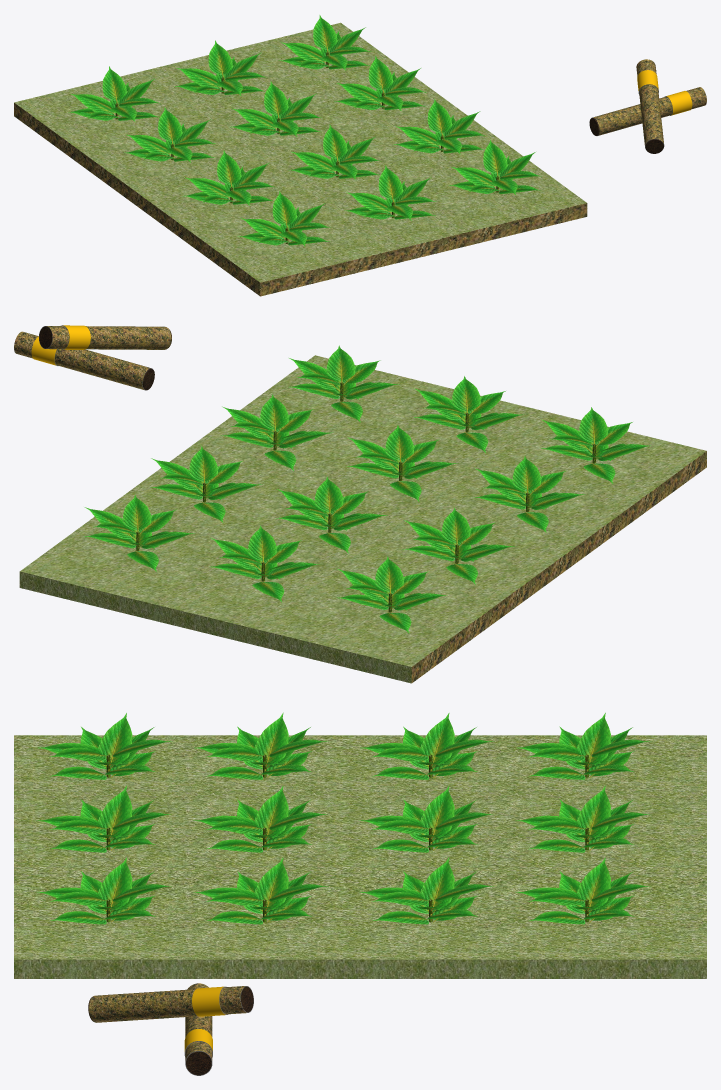
Rendered from tobacco.gltf.
3 views of the same model, one above another, from view 1: azimuth 30°, elevation 25°; view 2: azimuth 150°, elevation 25°; view 3: azimuth 270°, elevation 25° (orthographic). The views are drawn at different scales.
Parts seen in each view (by area): view 1: root, Component#3 (×12), object 134, object 135; view 2: root, Component#3 (×12), object 135, object 134; view 3: root, Component#3 (×12), object 135, object 134.
Part boxes in pixels (bbox=[...]): root: bbox=[14, 22, 587, 296]; Component#3 (×12): bbox=[102, 15, 507, 227]; object 134: bbox=[589, 87, 706, 135]; object 135: bbox=[636, 59, 664, 153]; root: bbox=[19, 355, 706, 683]; Component#3 (×12): bbox=[122, 345, 607, 593]; object 135: bbox=[39, 325, 171, 349]; object 134: bbox=[14, 331, 154, 390]; root: bbox=[14, 735, 706, 978]; Component#3 (×12): bbox=[98, 712, 610, 915]; object 135: bbox=[88, 986, 253, 1022]; object 134: bbox=[184, 983, 212, 1075].
Size of the model in its own units: 4.97 by 0.5907 by 4.18.
Materials: 7 (5 with a texture image).
